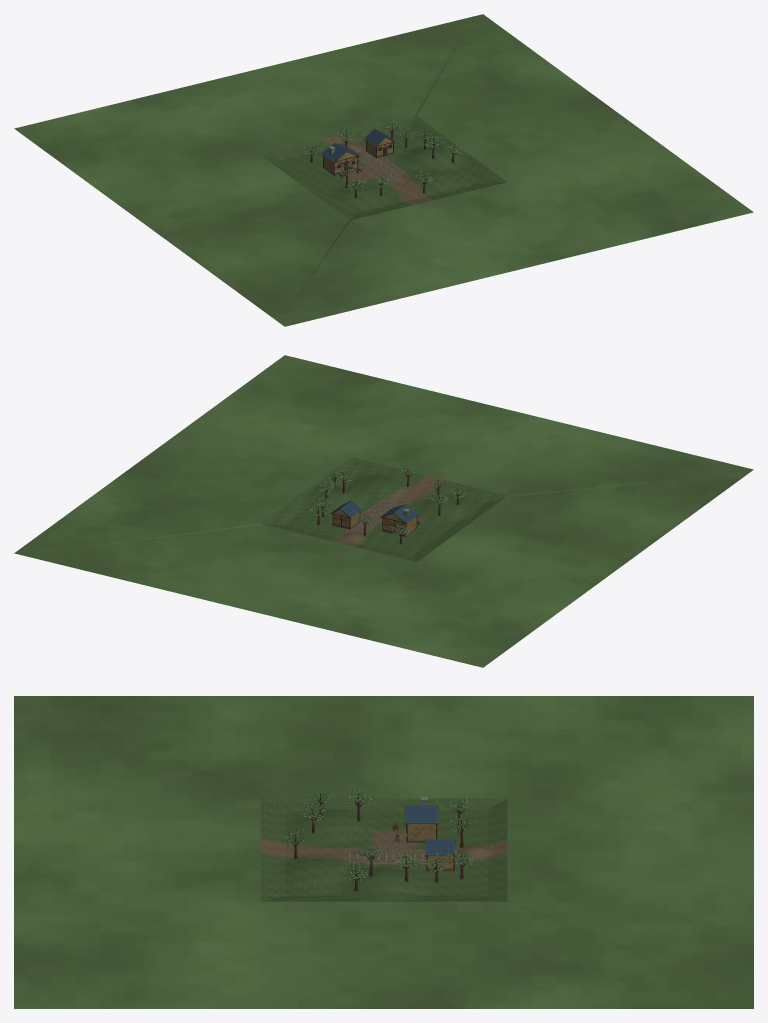
Rendered from stoneford-reference-v1.glb.
3 renders of one model, top to bottom at view 1: azimuth 30°, elevation 25°; view 2: azimuth 150°, elevation 25°; view 3: azimuth 270°, elevation 25°, orthographic. The views are drawn at different scales.
Parts seen in each view (by area): view 1: GB_STONEFORD_STREET; view 2: GB_STONEFORD_STREET; view 3: GB_STONEFORD_STREET.
Boxes of the visible parts, left/top/right/bottom form: GB_STONEFORD_STREET: left=14, top=14, right=753, bottom=326; GB_STONEFORD_STREET: left=14, top=355, right=753, bottom=667; GB_STONEFORD_STREET: left=14, top=696, right=753, bottom=1008.
Size of the model in its own units: 147 by 7.98 by 147.
2 materials, 1 textured.
